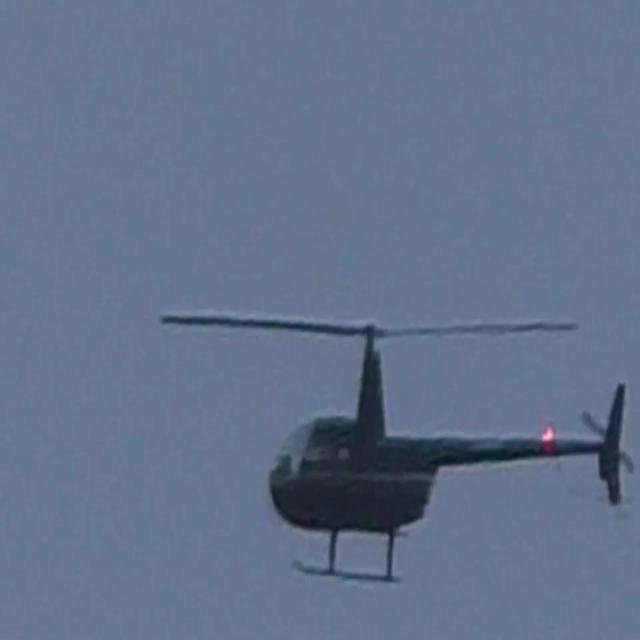CIV_HELO: (268, 322, 632, 588)
